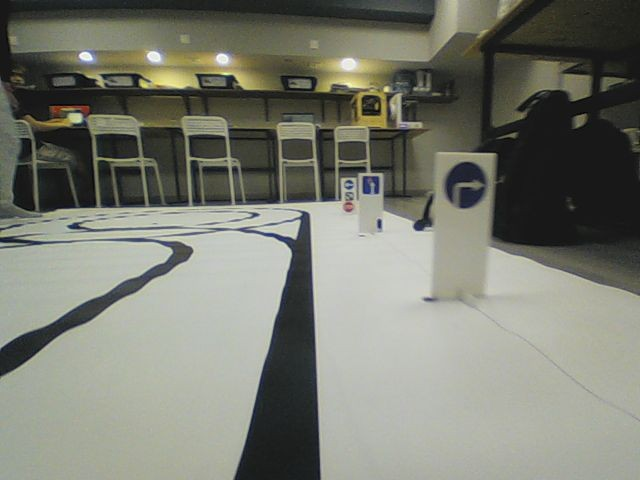Right: (442, 160, 488, 210)
priority_movement: (361, 175, 381, 196)
